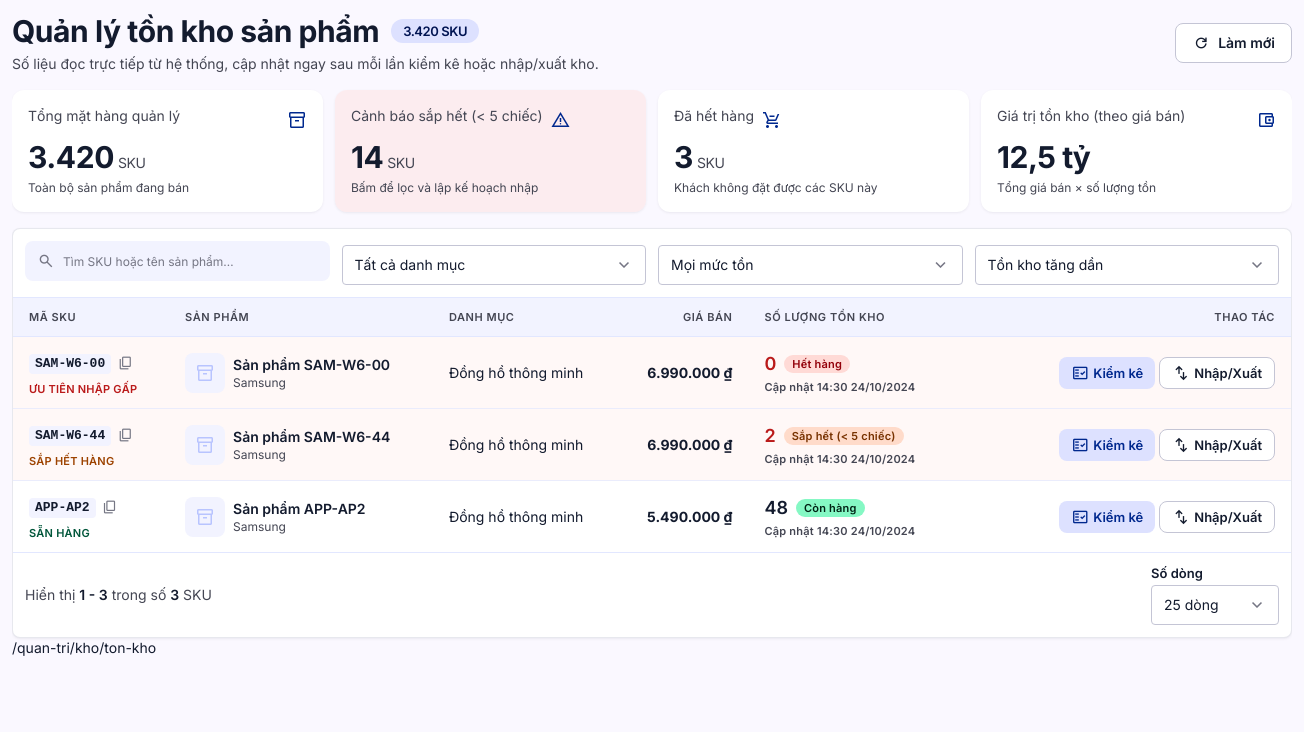
InventoryPage › bộ lọc: tìm SKU, danh mục, mức tồn (cả thẻ cảnh báo); chip và xoá bộ lọc
Type "sam" into the search field named "Tìm theo SKU" at (194, 261), box x1=63 y1=241 x2=326 y2=281
Then press Enter
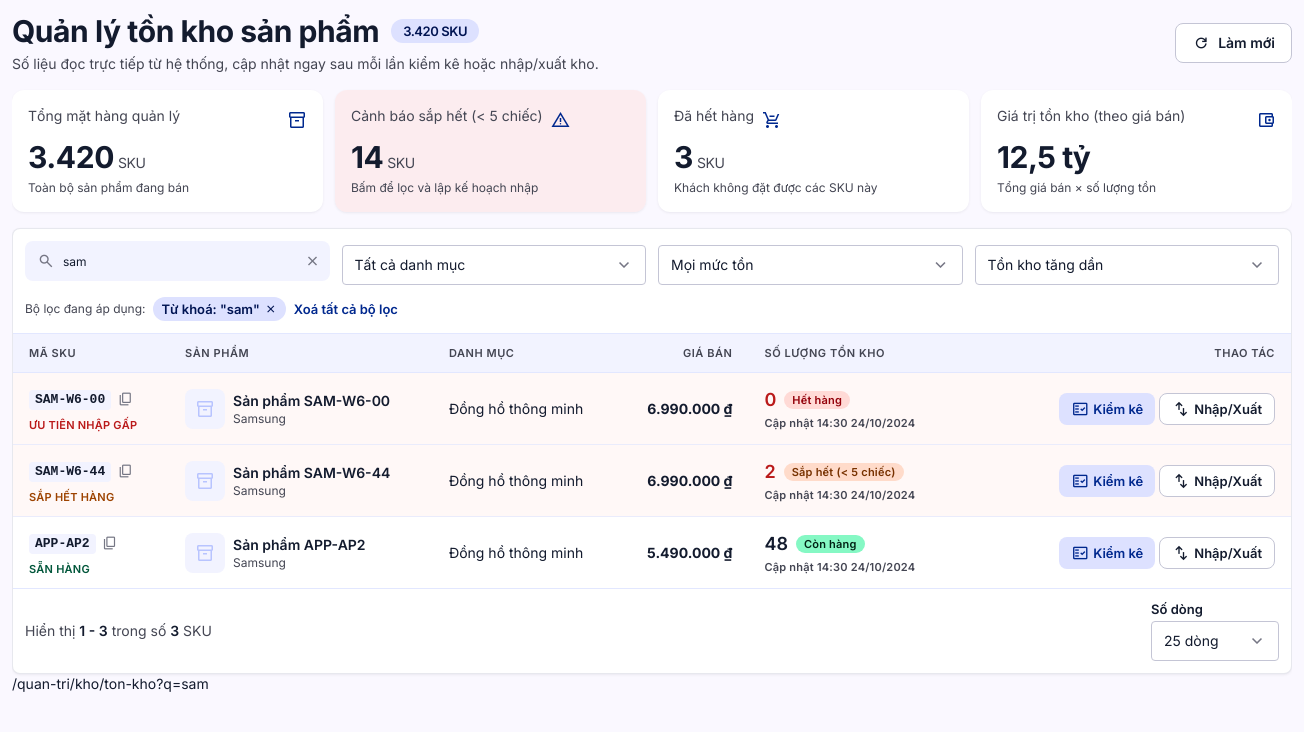
Select "Đồng hồ thông minh" in the 1st dropdown named "Danh mục" at (494, 265), box x1=342 y1=245 x2=646 y2=285
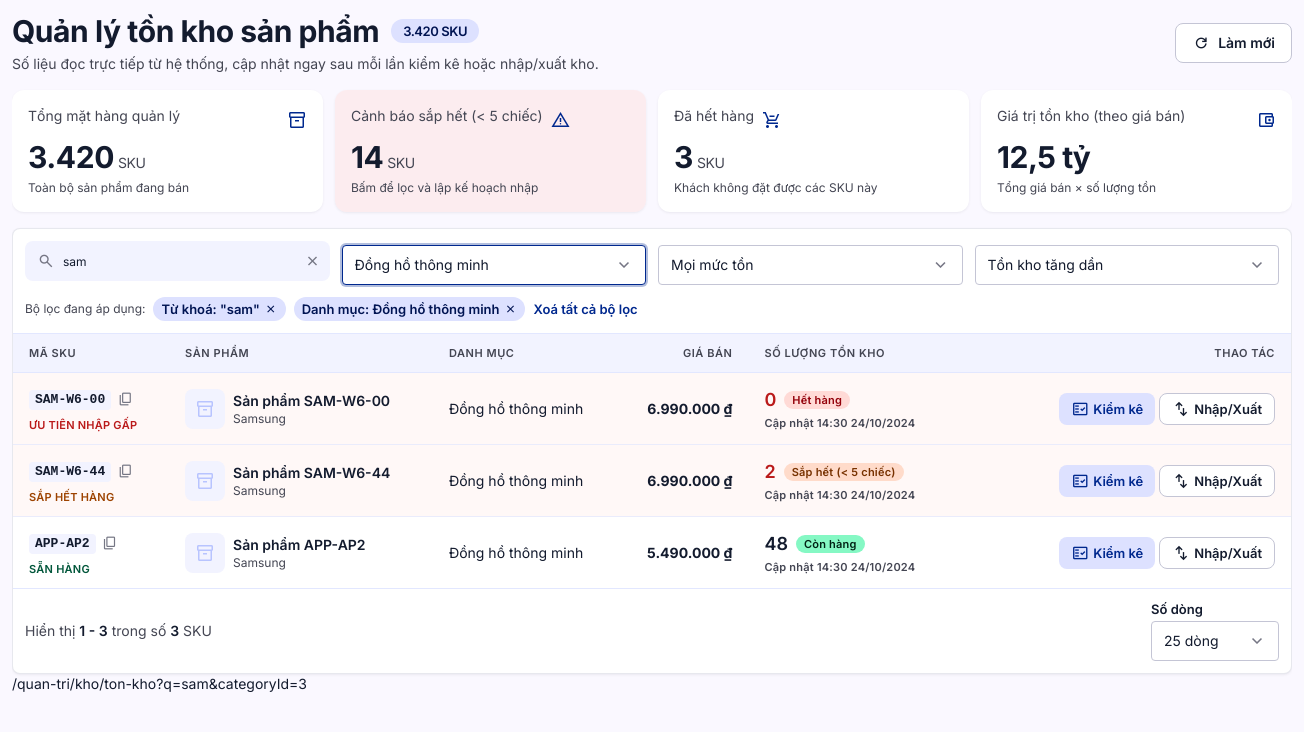
Click the button "Cảnh báo sắp hết" at (447, 116), box x1=335 y1=90 x2=646 y2=212
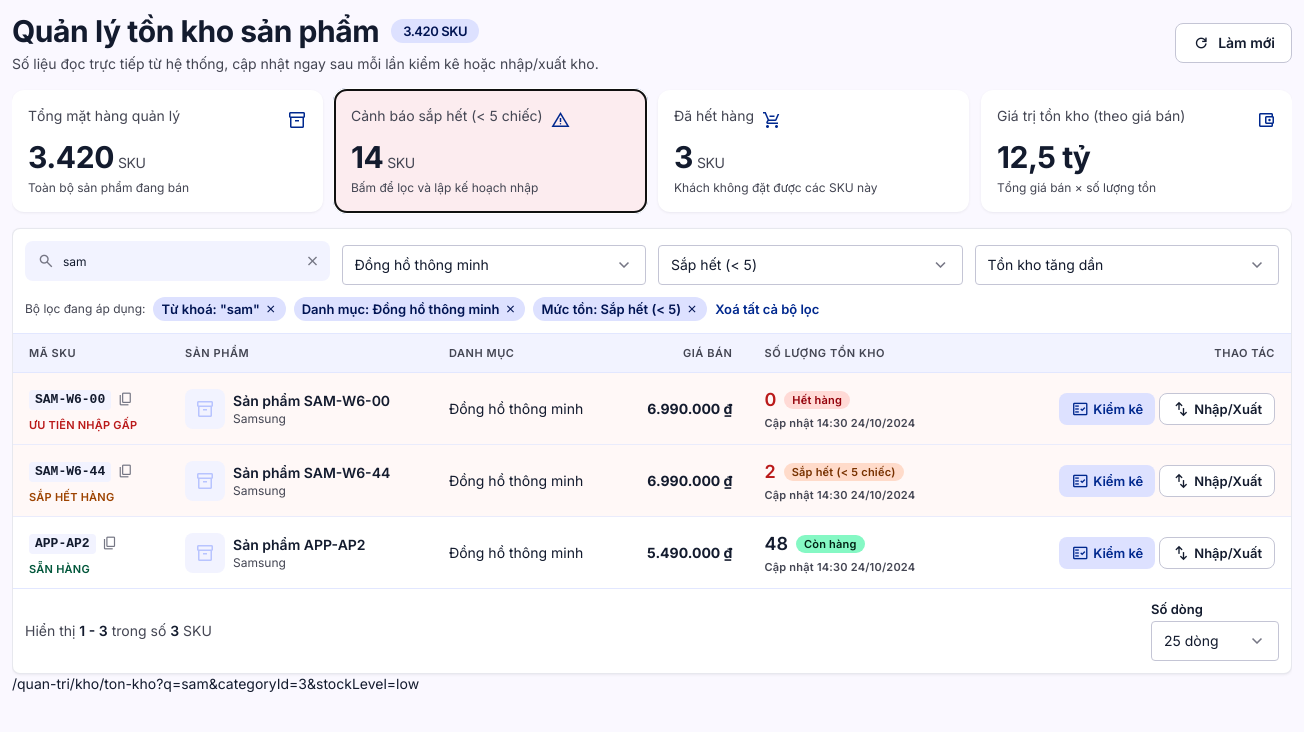
Expected: the text "Danh mục: Đồng hồ thông minh" is shown, x1=294 y1=297 x2=526 y2=321
Click the button named "Bỏ lọc Từ khoá" at (271, 309), box x1=264 y1=299 x2=278 y2=319
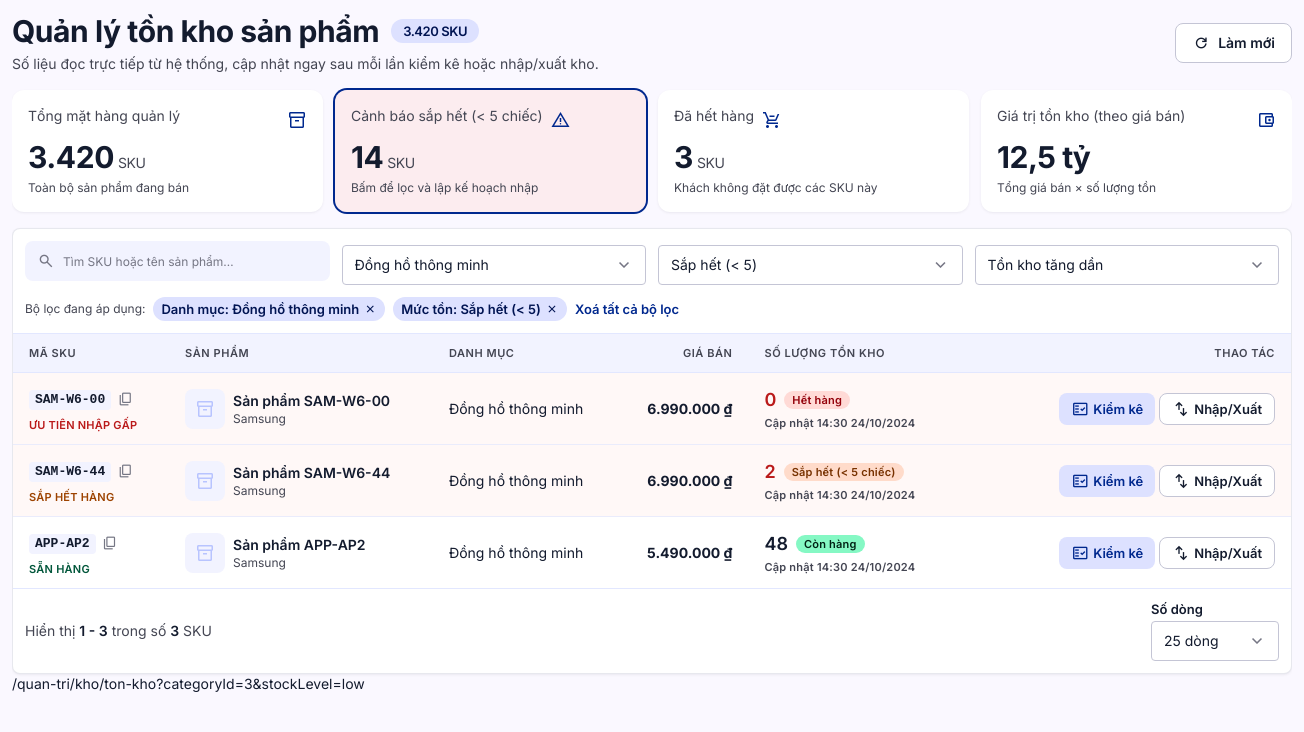
Click the button "Xoá tất cả bộ lọc" at (627, 309), box x1=575 y1=301 x2=679 y2=317
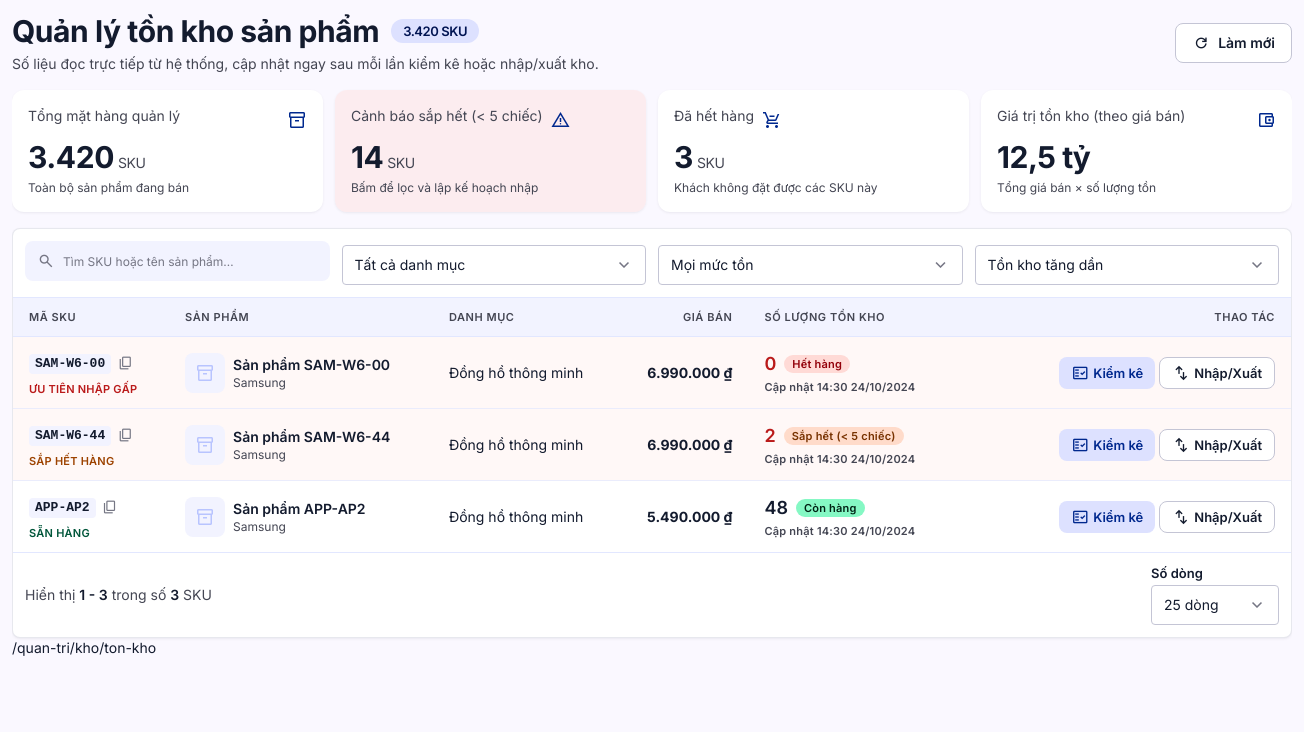
Expected: the text with test id "location" reads "/quan-tri/kho/ton-kho", x1=12 y1=639 x2=156 y2=656
